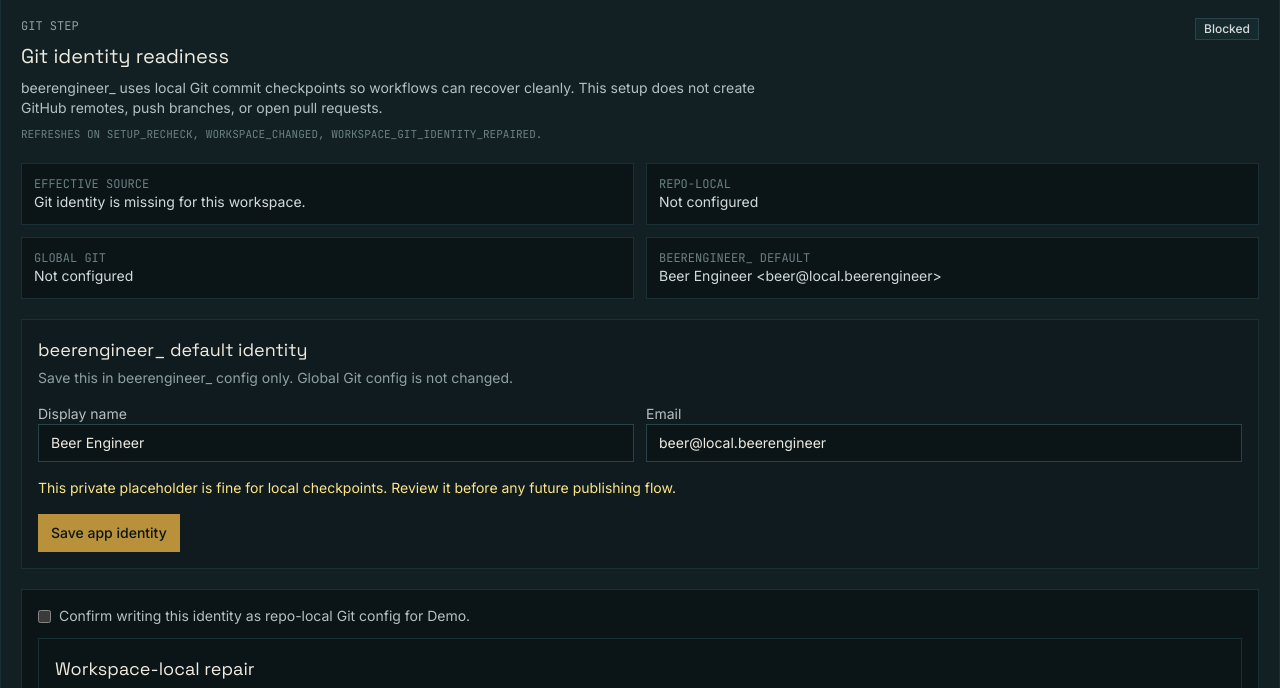
Setup workspace Git repair › shows partial failure state from the fresh repair response
The width and height of the screenshot is (1280, 688).
Click the checkbox: (44, 616) x1=38 y1=610 x2=51 y2=622
(page scrolled)
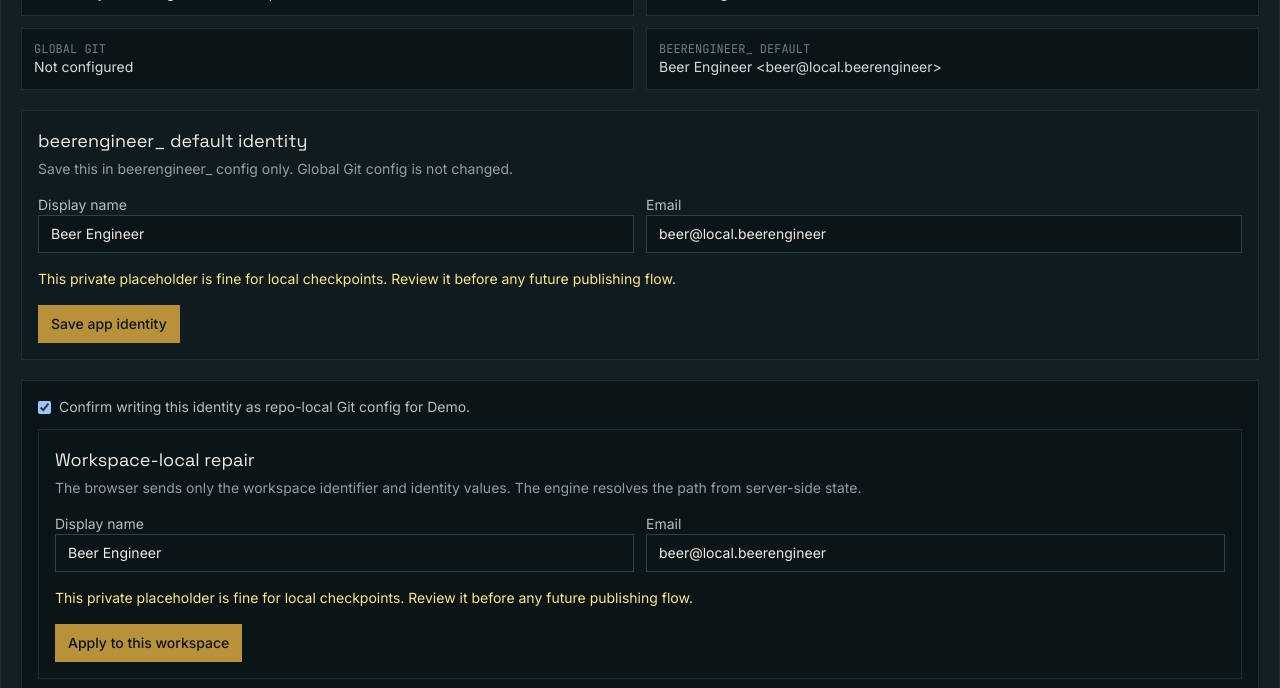
Replace the text in the field labelled "Display name" below "Workspace-local repair" with "Only Name": (344, 552) x1=55 y1=534 x2=634 y2=572
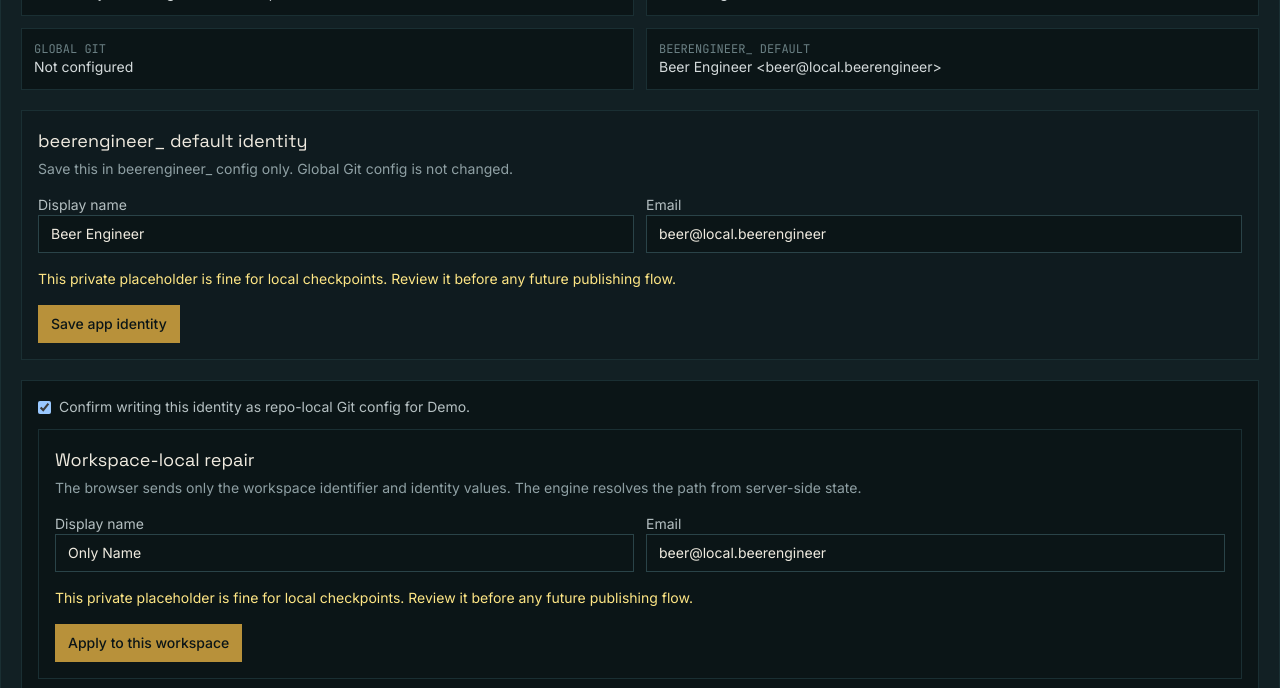
Replace the text in the field labelled "Email" below "Demo" with "repair@example.test": (936, 552) x1=646 y1=534 x2=1225 y2=572
(page scrolled)
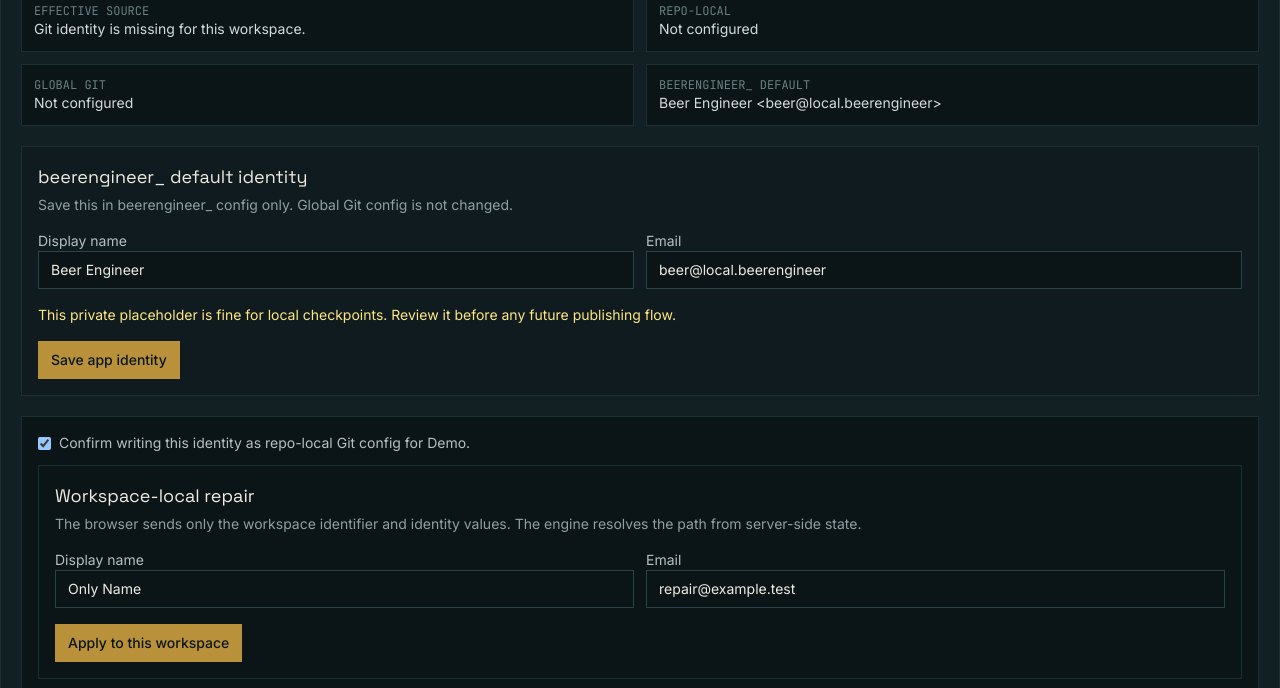
Click the button "Apply to this workspace": (149, 642) x1=55 y1=624 x2=242 y2=662
(page scrolled)
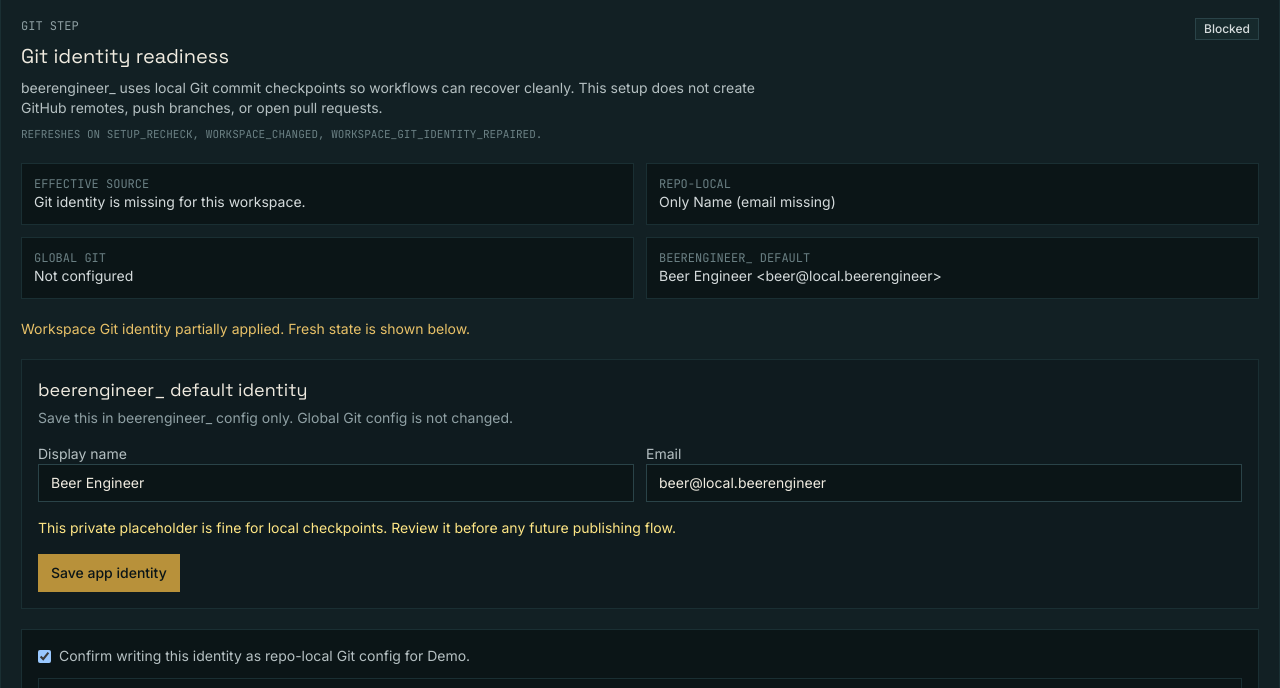
Result: the message shows "partially applied" at x1=21 y1=320 x2=470 y2=336
Result: the text "Only Name (email missing)" is shown at x1=659 y1=192 x2=836 y2=210
